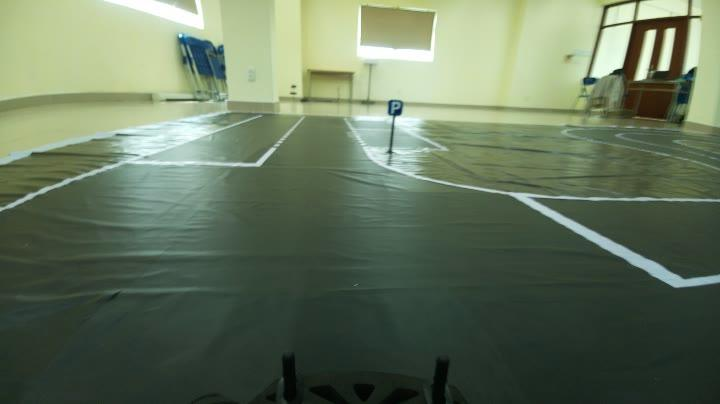parking: (383, 94, 406, 118)
